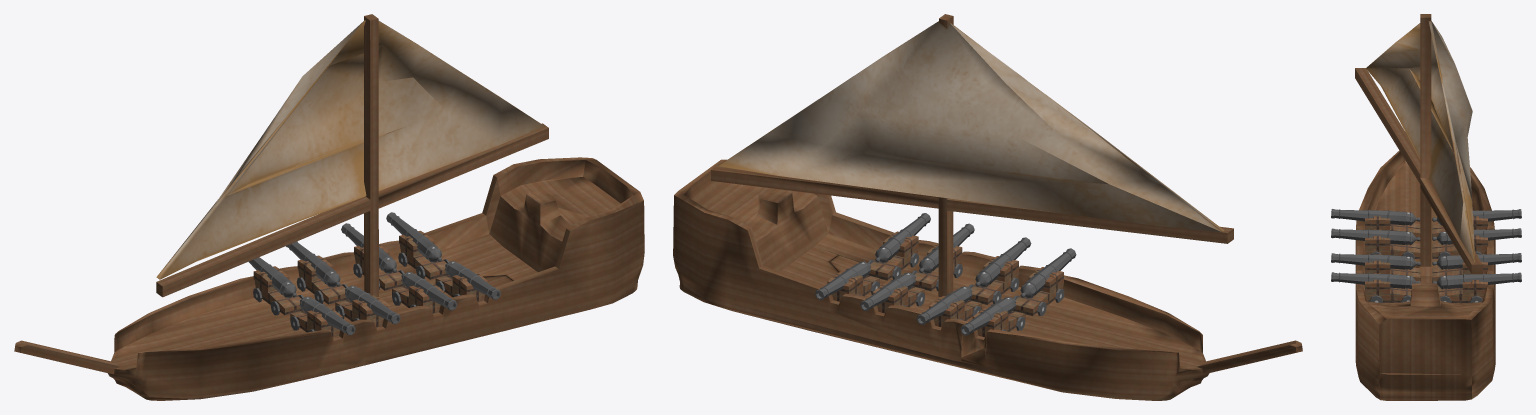
File: sloop.glb
The picture shows the model from 3 angles, left to right: view 1: azimuth 30°, elevation 25°; view 2: azimuth 150°, elevation 25°; view 3: azimuth 270°, elevation 25°; orthographic projection. The views are drawn at different scales.
Visible parts, largest first — view 1: Cube, Cylinder.003, Cylinder.001, Cylinder, Cylinder.005, Cylinder.007, Cylinder.006, Cylinder.004, Cylinder.002; view 2: Cube, Cylinder.004, Cylinder.007, Cylinder.006, Cylinder.002, Cylinder, Cylinder.003, Cylinder.001, Cylinder.005; view 3: Cube, Cylinder.006, Cylinder.003, Cylinder.004, Cylinder.007, Cylinder.005, Cylinder.001, Cylinder.002, Cylinder.
Boxes of the visible parts, left/top/right/bottom form: Cube: left=14, top=14, right=644, bottom=400; Cylinder.003: left=386, top=212, right=449, bottom=279; Cylinder.001: left=286, top=241, right=348, bottom=304; Cylinder: left=248, top=257, right=304, bottom=315; Cylinder.005: left=392, top=272, right=457, bottom=313; Cylinder.007: left=290, top=296, right=355, bottom=337; Cylinder.006: left=335, top=285, right=400, bottom=327; Cylinder.004: left=435, top=261, right=500, bottom=301; Cylinder.002: left=341, top=223, right=404, bottom=290; Cube: left=673, top=14, right=1302, bottom=400; Cylinder.004: left=867, top=213, right=930, bottom=280; Cylinder.007: left=1013, top=248, right=1076, bottom=315; Cylinder.006: left=968, top=237, right=1031, bottom=304; Cylinder.002: left=860, top=272, right=924, bottom=313; Cylinder: left=960, top=297, right=1025, bottom=337; Cylinder.003: left=815, top=261, right=879, bottom=301; Cylinder.001: left=916, top=286, right=981, bottom=327; Cylinder.005: left=912, top=223, right=974, bottom=291; Cube: left=1355, top=14, right=1495, bottom=400; Cylinder.006: left=1331, top=228, right=1420, bottom=259; Cylinder.003: left=1432, top=272, right=1521, bottom=303; Cylinder.004: left=1331, top=272, right=1420, bottom=302; Cylinder.007: left=1331, top=209, right=1420, bottom=237; Cylinder.005: left=1331, top=253, right=1420, bottom=281; Cylinder.001: left=1432, top=228, right=1521, bottom=258; Cylinder.002: left=1432, top=253, right=1521, bottom=281; Cylinder: left=1432, top=209, right=1521, bottom=237.
Bounding box in the file's own units: 2681 × 1366 × 818.
Materials: 2 (2 with a texture image).
